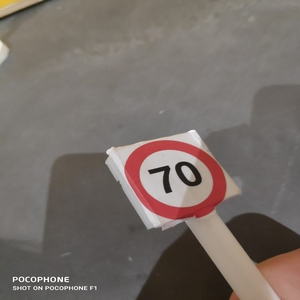70-bord: (125, 140, 231, 218)
